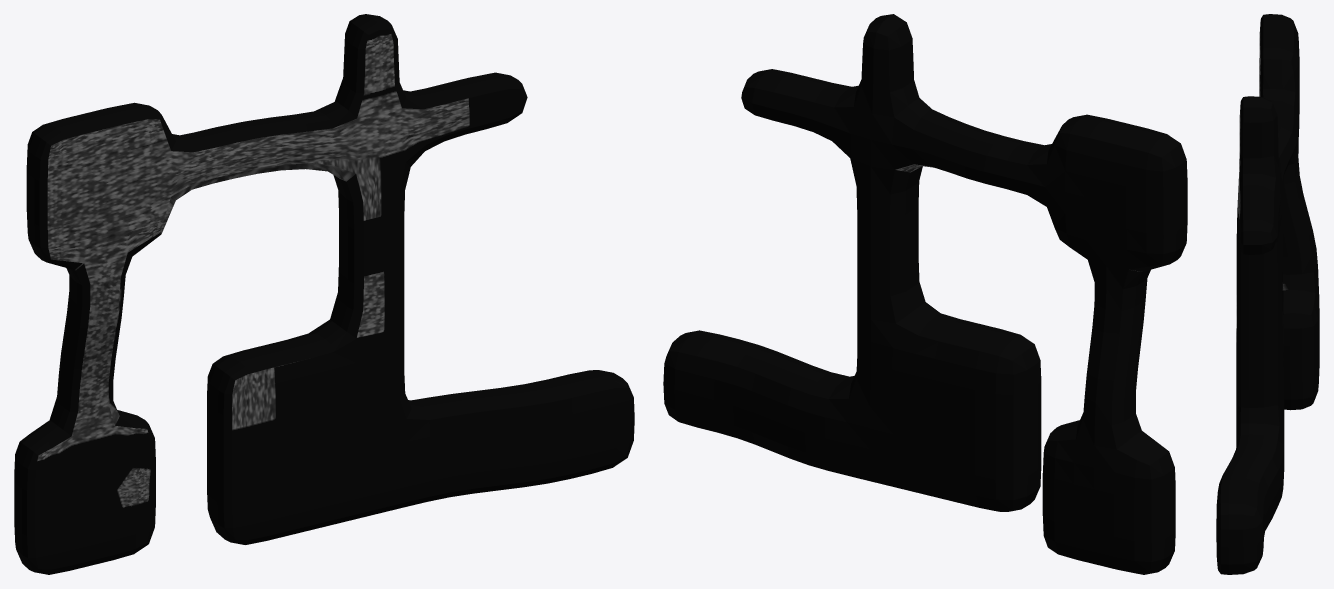
The model's file is cave2.dae.
The picture shows the model from 3 angles, left to right: view 1: azimuth 30°, elevation 25°; view 2: azimuth 150°, elevation 25°; view 3: azimuth 270°, elevation 25°; orthographic projection. The views are drawn at different scales.
Visible parts, largest first — view 1: Cube; view 2: Cube; view 3: Cube.
Boxes of the visible parts, left/top/right/bottom form: Cube: left=14, top=14, right=634, bottom=574; Cube: left=663, top=14, right=1187, bottom=574; Cube: left=1216, top=14, right=1319, bottom=574.
Bounding box in the file's own units: 52.39 × 10.3 × 43.83.
